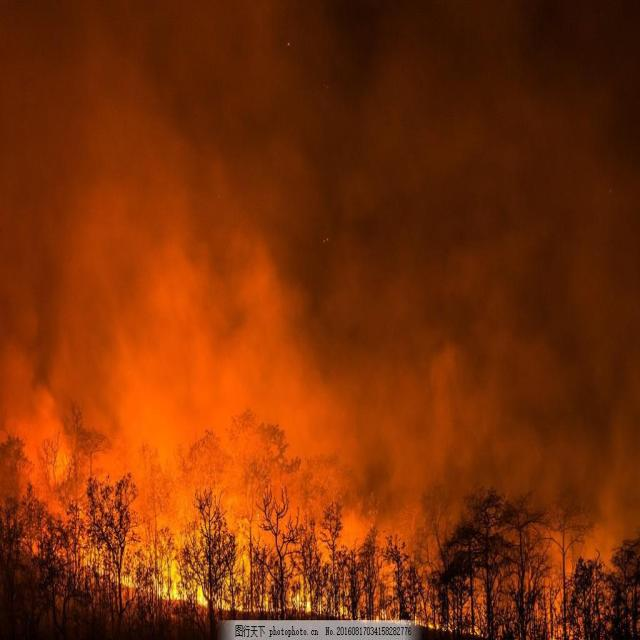fire: (150, 556, 212, 610), (288, 586, 326, 618)
smoke: (95, 198, 322, 466), (399, 280, 512, 469)
